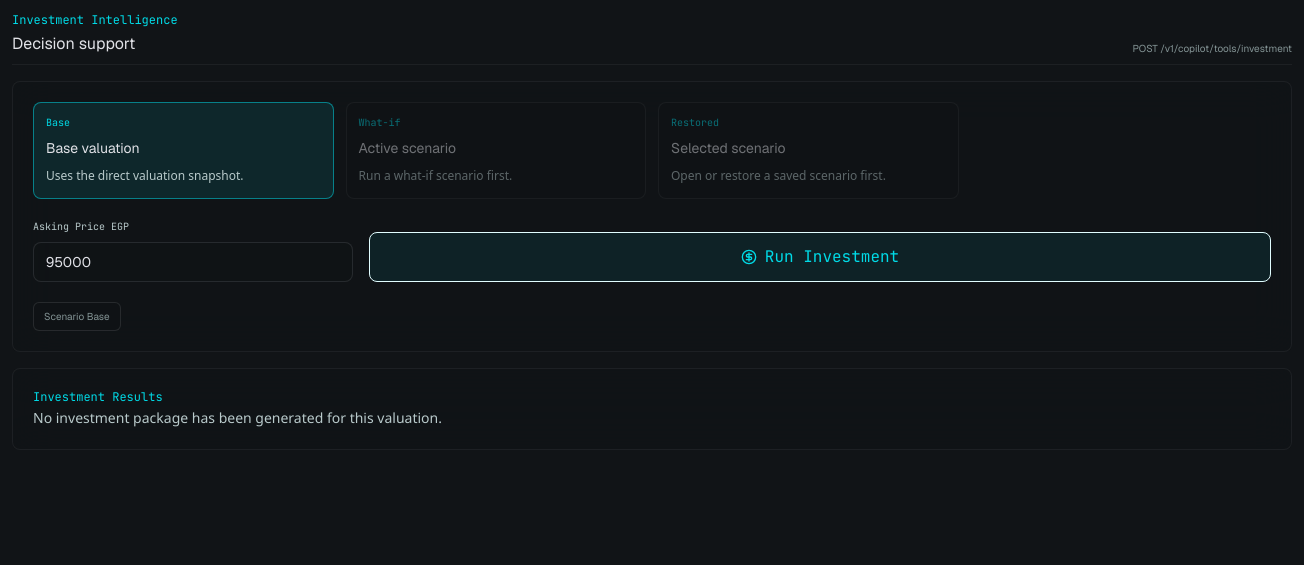
Test: InvestmentIntelligencePanel › renders service errors
Click the button "Run Investment": (820, 257) [369,232,1271,282]
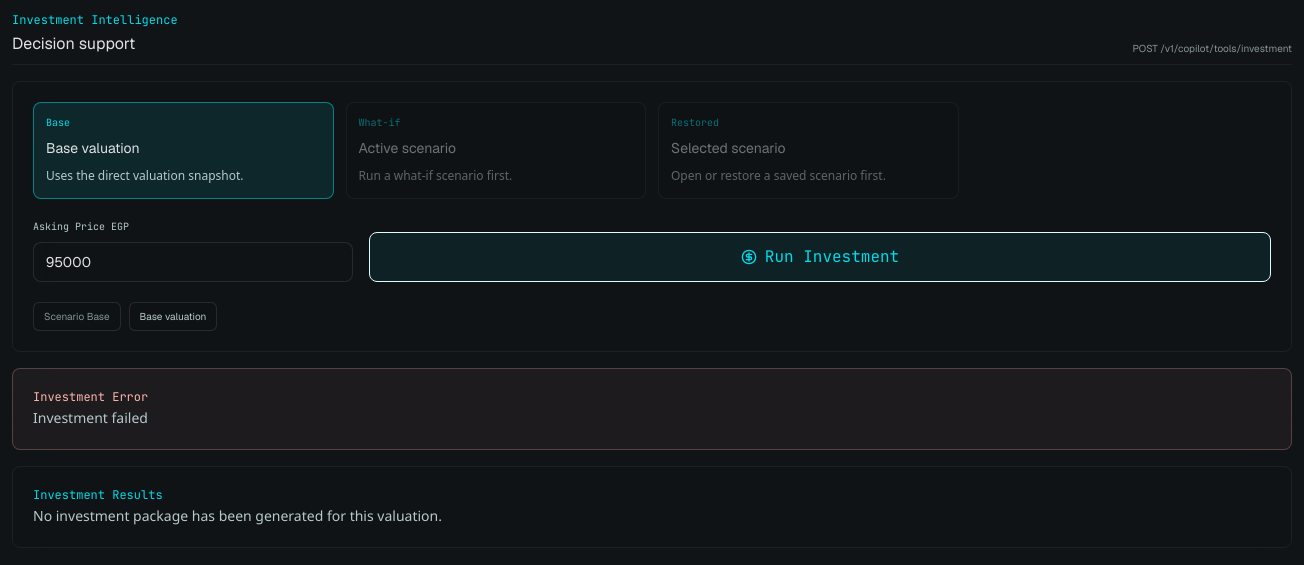
Expected: the text "Investment failed" is shown, [33,409,148,428]
Expected: the text "Investment Error" is shown, [33,389,148,405]
